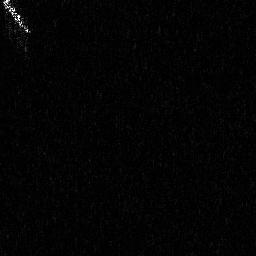ship: (1, 1, 31, 32)
